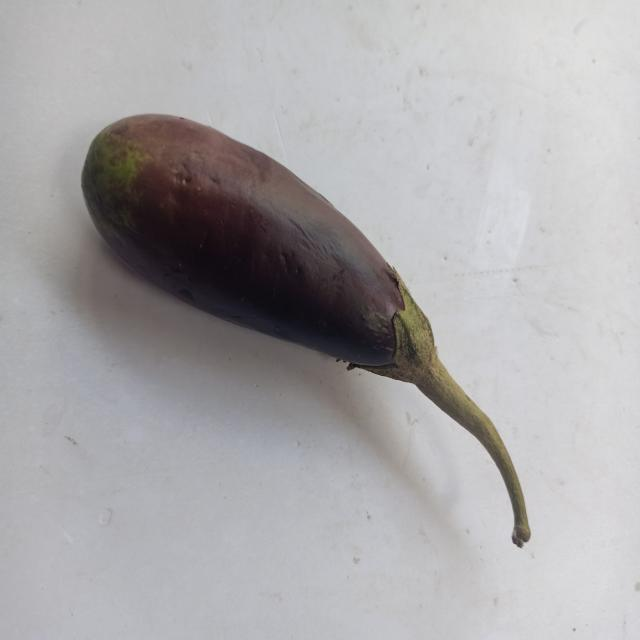Brinjal: (68, 67, 580, 560)
